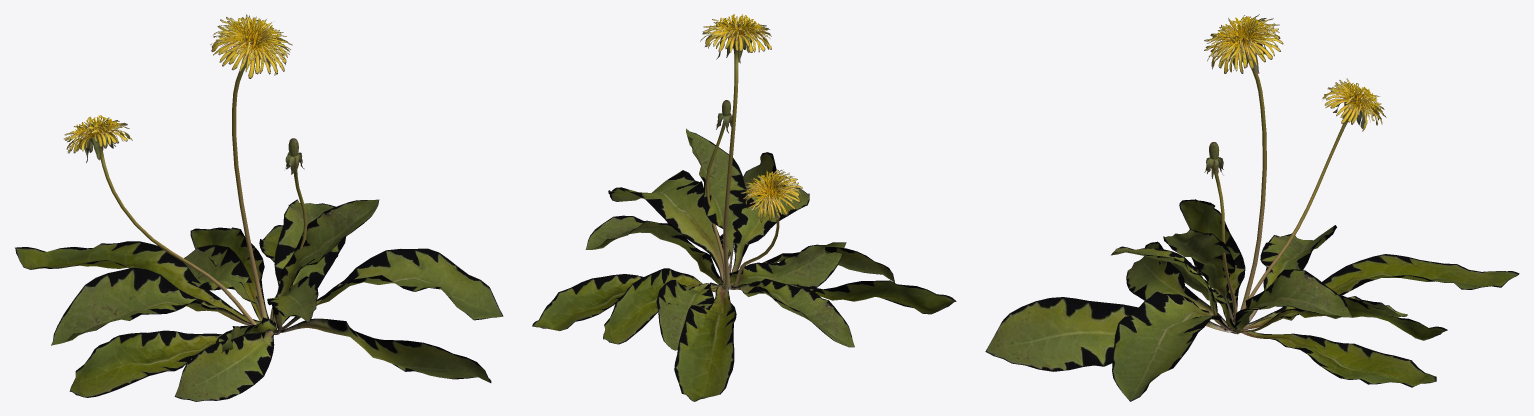
Rendered from dandelion_01_a.glb.
The picture shows the model from 3 angles, left to right: view 1: azimuth 30°, elevation 25°; view 2: azimuth 150°, elevation 25°; view 3: azimuth 270°, elevation 25°; orthographic projection. The views are drawn at different scales.
Parts seen in each view (by area): view 1: dandelion_01_a; view 2: dandelion_01_a; view 3: dandelion_01_a.
Part boxes in pixels (bbox=[...]): dandelion_01_a: bbox=[15, 14, 503, 401]; dandelion_01_a: bbox=[532, 14, 956, 401]; dandelion_01_a: bbox=[985, 14, 1519, 401].
Bounding box in the file's own units: 0.2203 × 0.1642 × 0.2577.
1 material, 1 textured.
